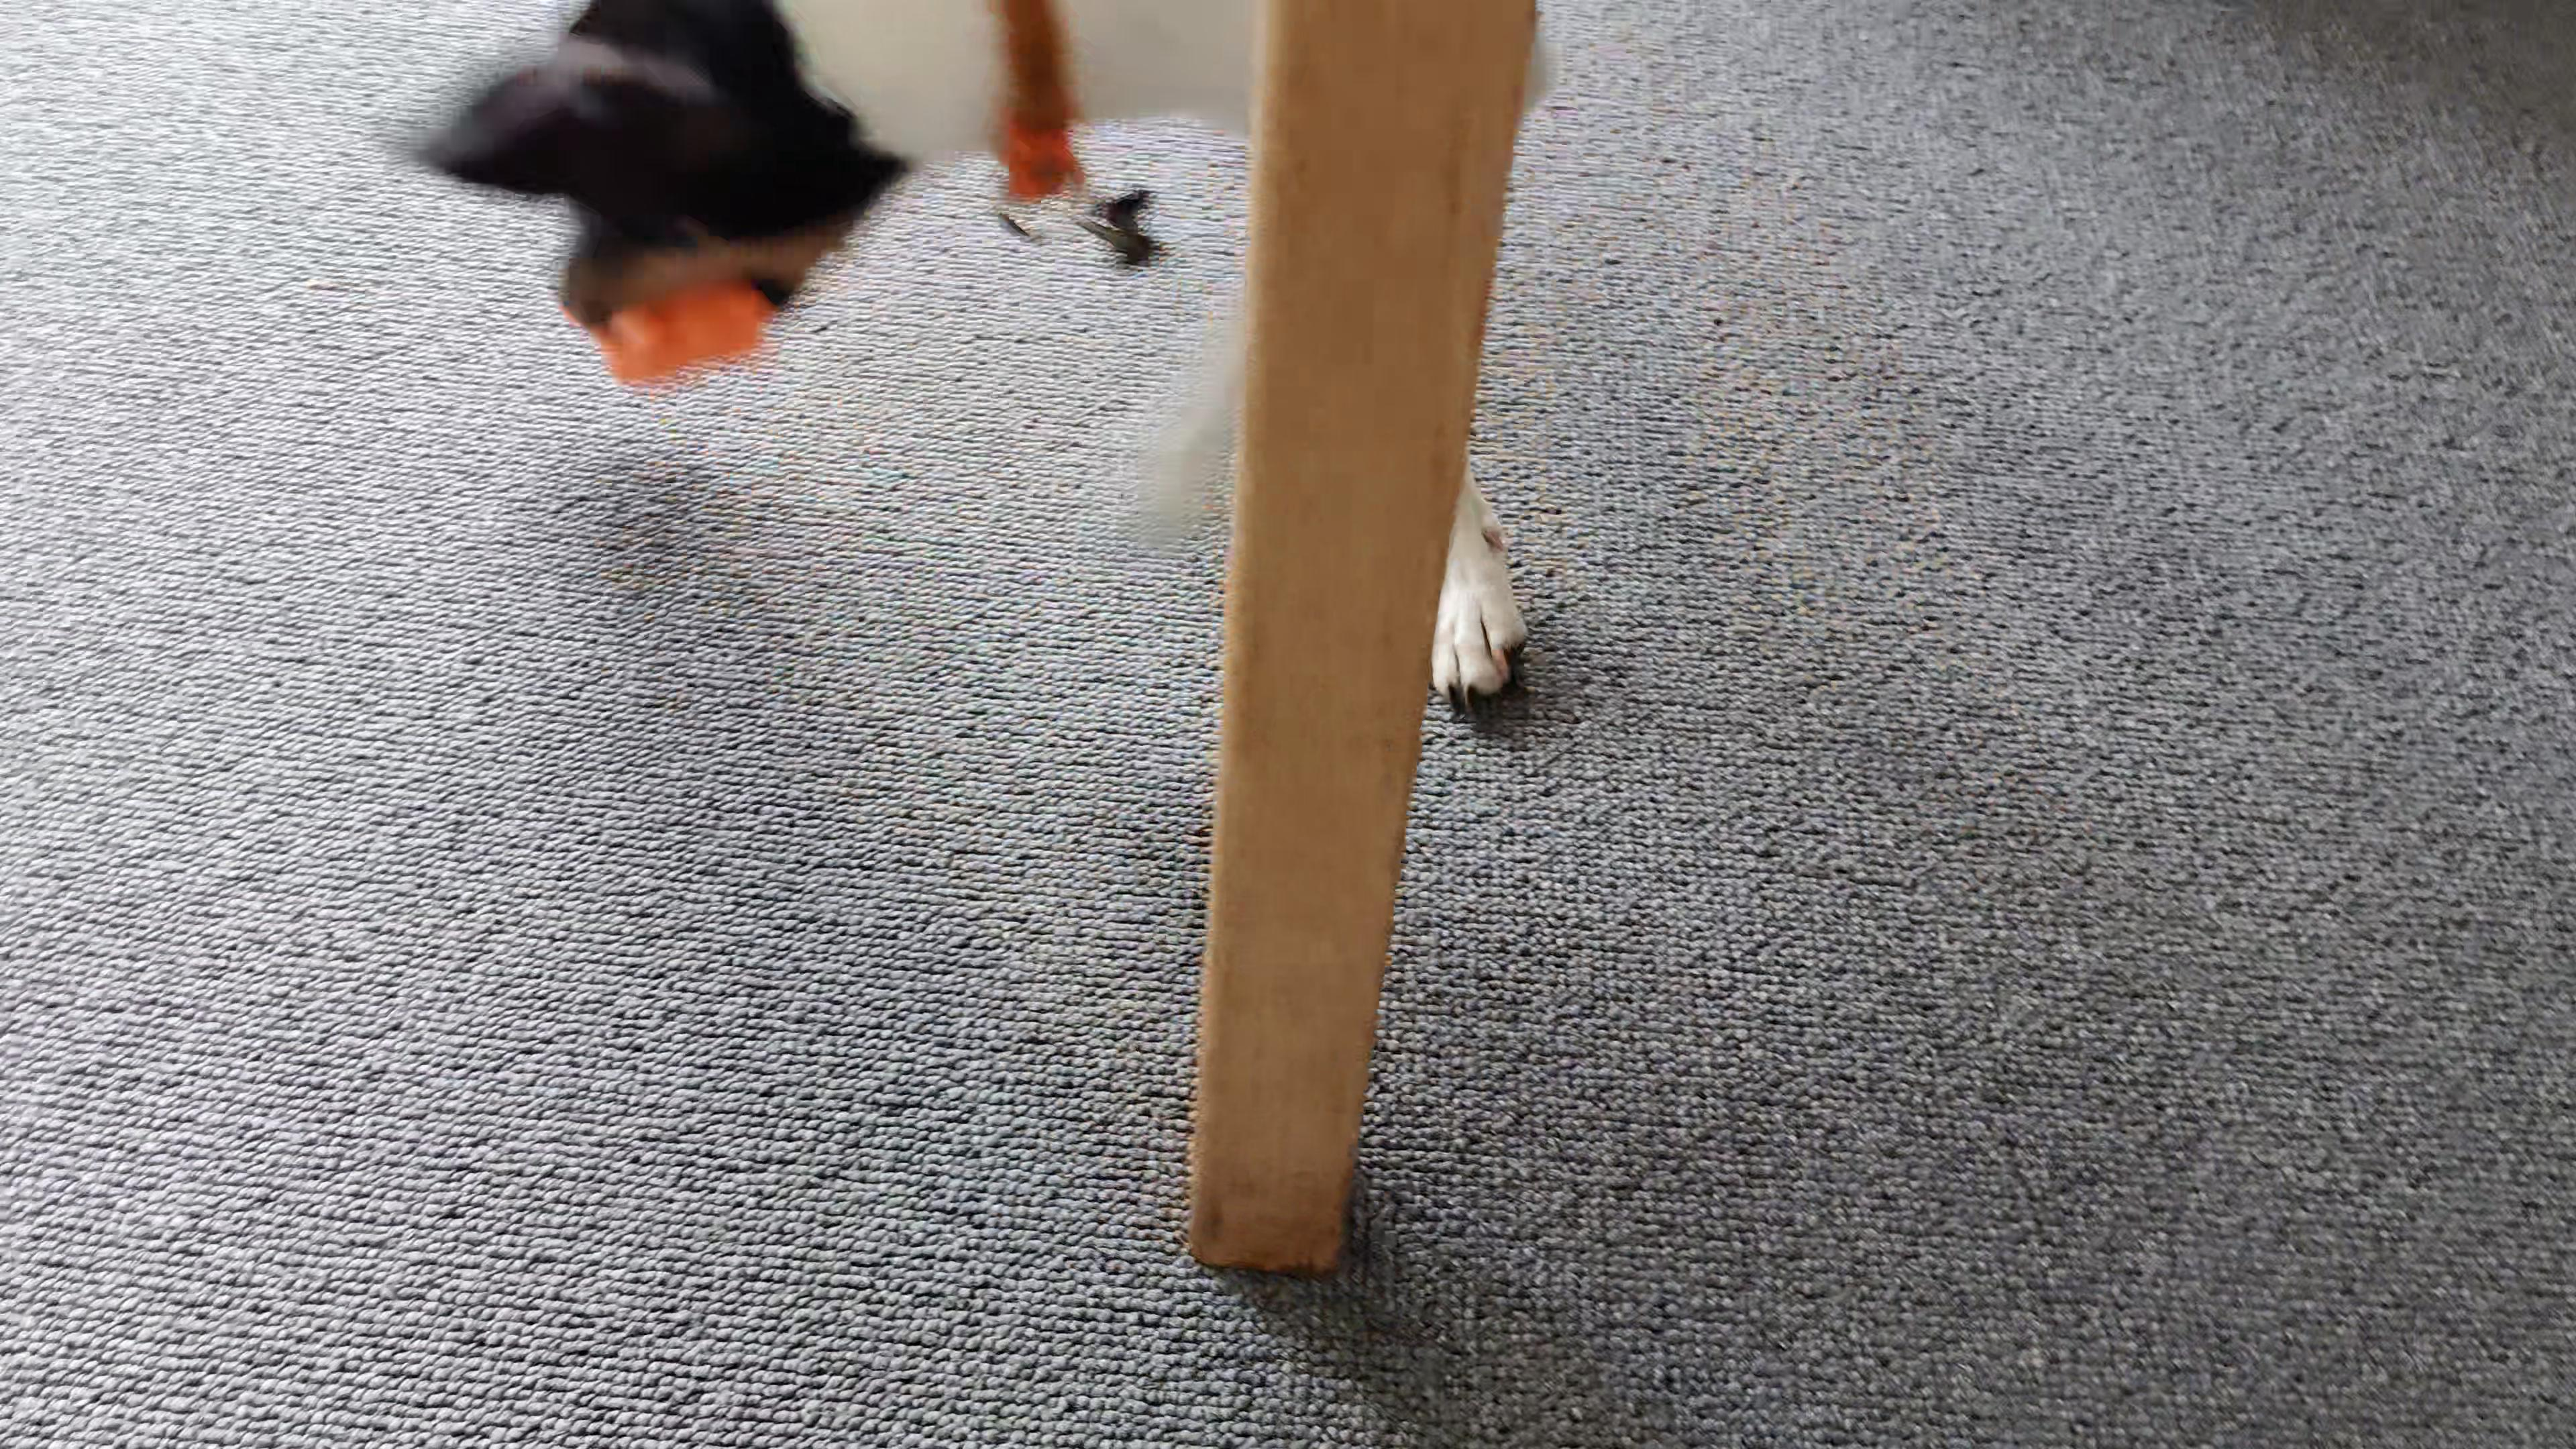Dog: (363, 0, 1568, 738)
